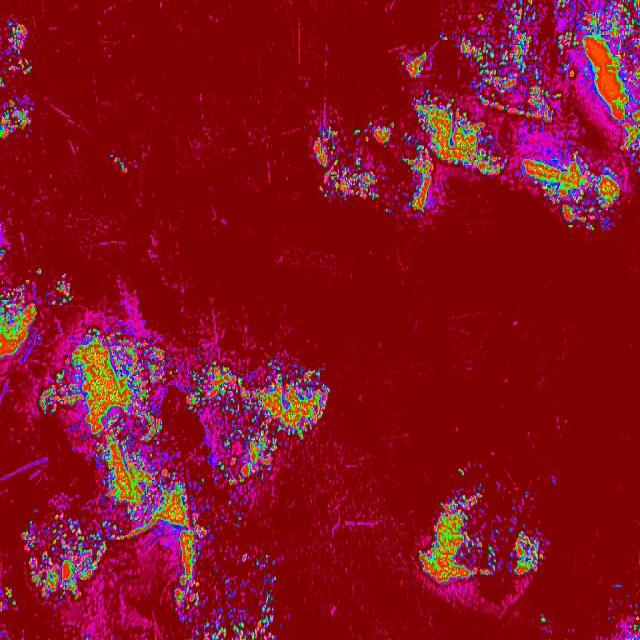fire: (0, 321, 280, 640), (406, 0, 638, 228), (414, 484, 554, 584), (314, 119, 406, 210), (0, 9, 37, 140), (280, 364, 340, 440), (0, 264, 72, 322)
